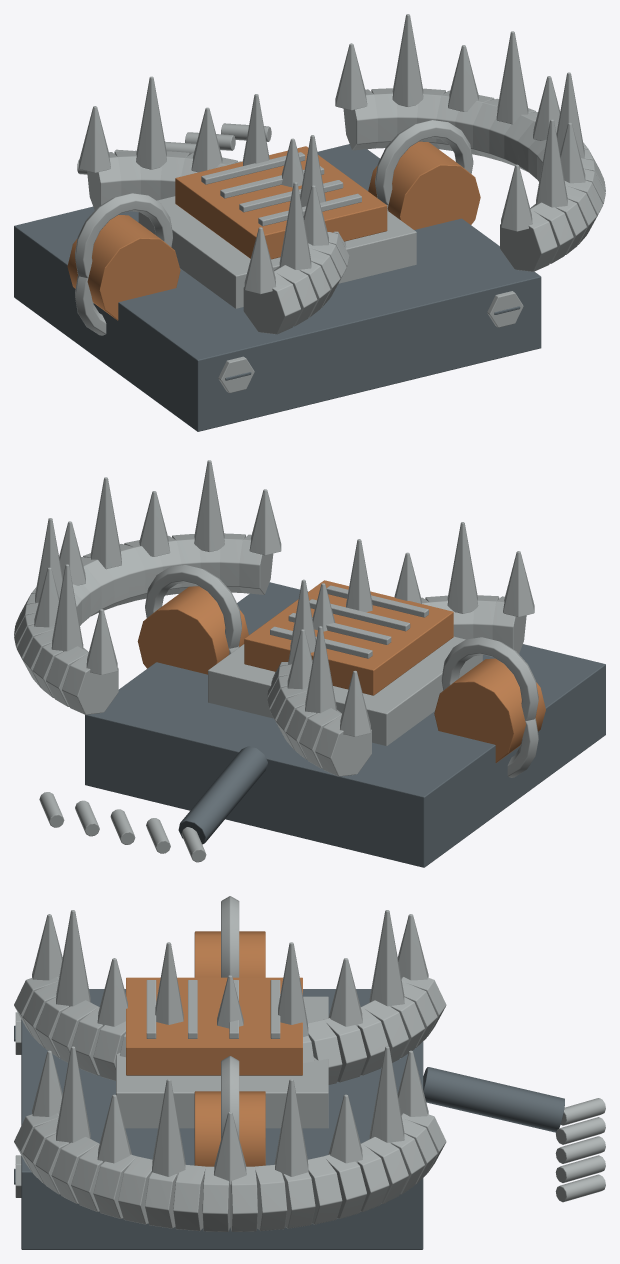
The model's file is 19_Snap_Jaw_Bear_Trap.fbx.
3 views of the same model, one above another, from view 1: azimuth 30°, elevation 25°; view 2: azimuth 150°, elevation 25°; view 3: azimuth 270°, elevation 25° (orthographic). The views are drawn at different scales.
Visible parts, largest first — view 1: 19_Snap_Jaw_Bear_Trap; view 2: 19_Snap_Jaw_Bear_Trap; view 3: 19_Snap_Jaw_Bear_Trap.
Part boxes in pixels (x1=…): 19_Snap_Jaw_Bear_Trap: x1=14, y1=14, x2=605, y2=431; 19_Snap_Jaw_Bear_Trap: x1=14, y1=460, x2=605, y2=867; 19_Snap_Jaw_Bear_Trap: x1=14, y1=896, x2=605, y2=1249.
Size of the model in its own units: 1.61 by 0.62 by 1.5.
